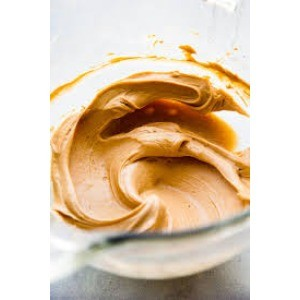peanut butter_brain food: (70, 59, 224, 225)
